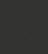six: (19, 20, 27, 33)
